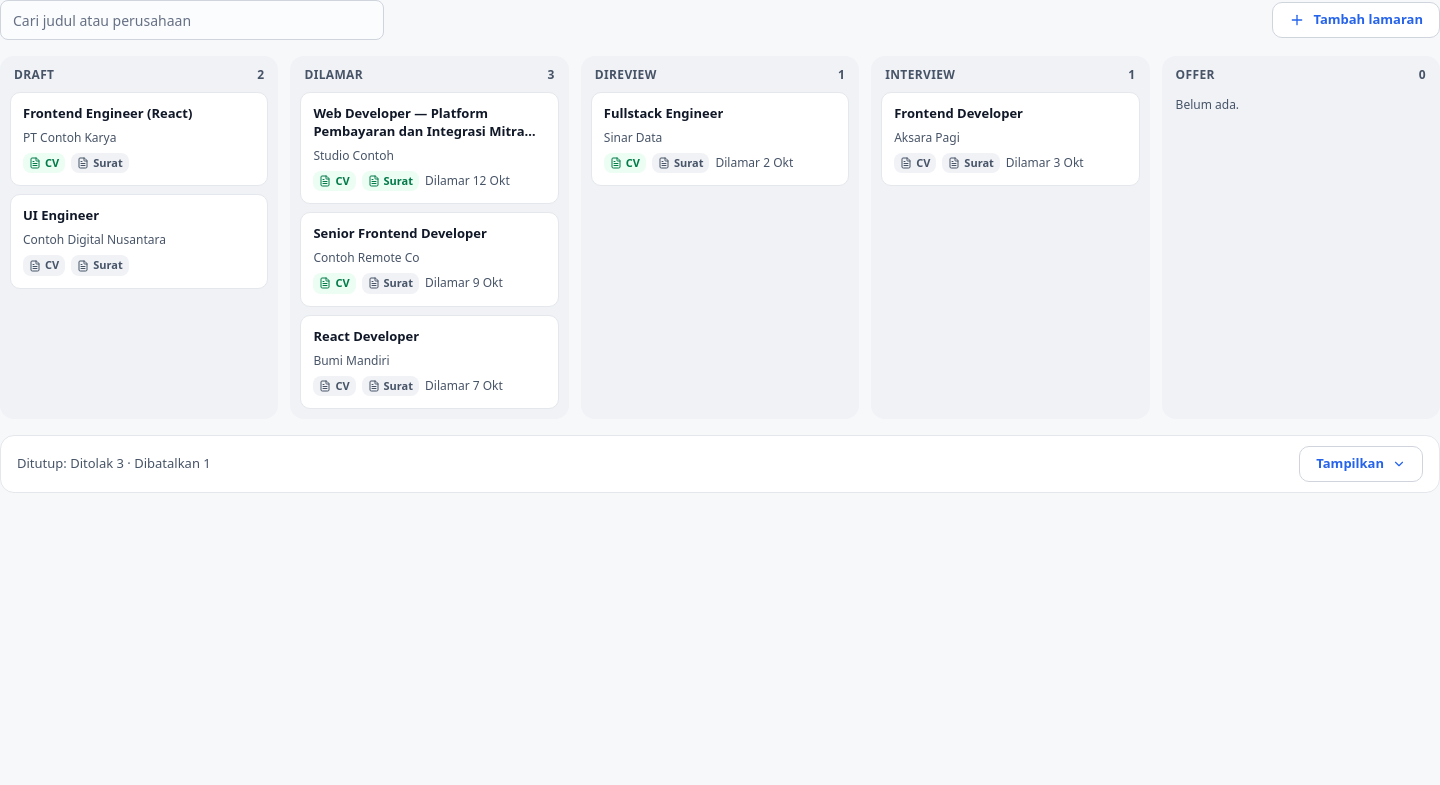
ApplicationsPage tambah lamaran › closes on Batal without saving
Click the button "Tambah lamaran" at (1356,20), box left=1272, top=2, right=1439, bottom=38
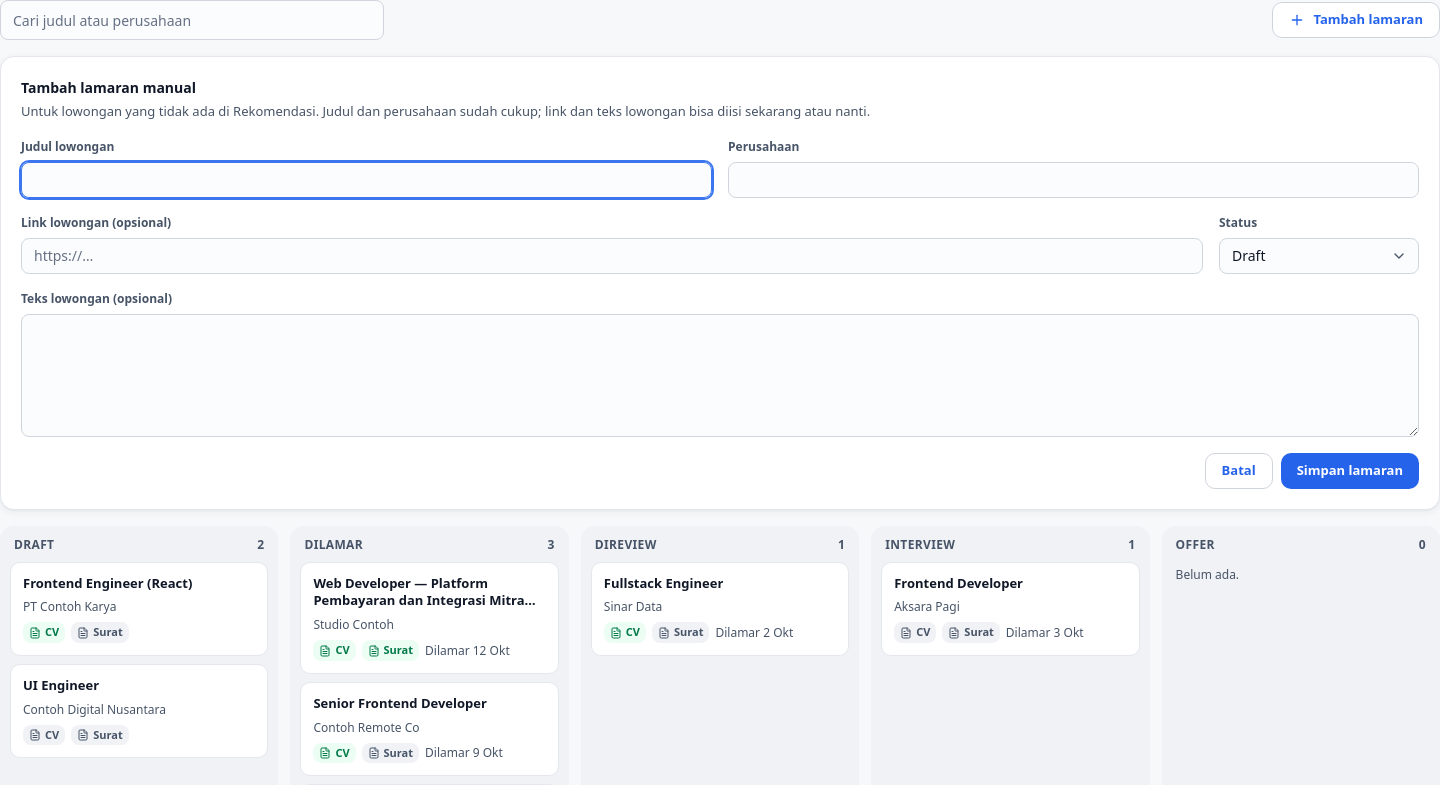
Click the button "Batal" at (1239,470), box left=1205, top=452, right=1273, bottom=488
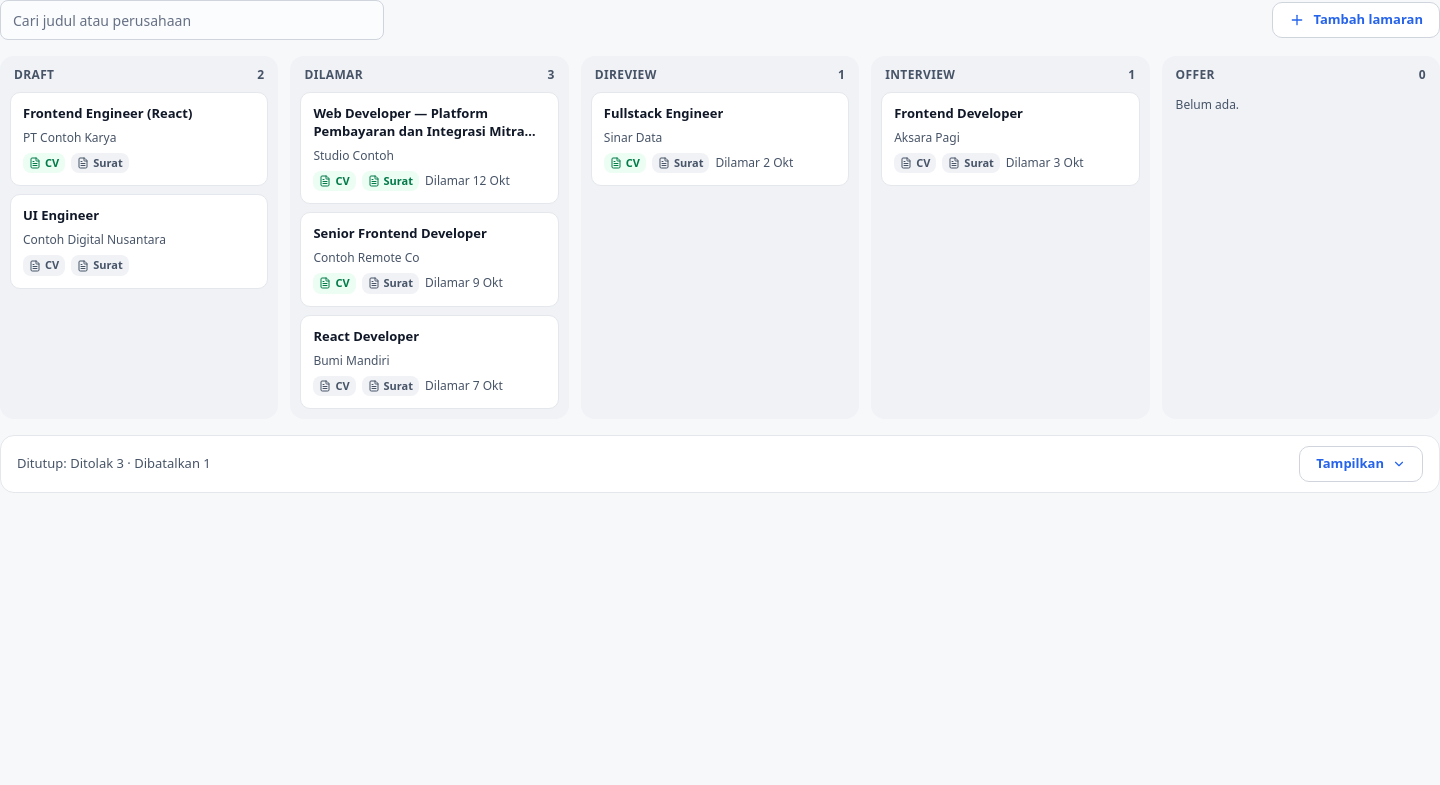
Check: the form is gone
